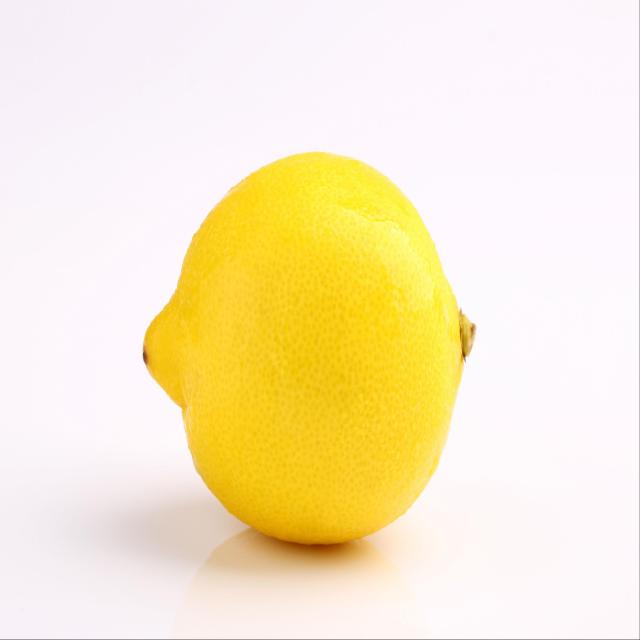lemon: (140, 138, 482, 554)
